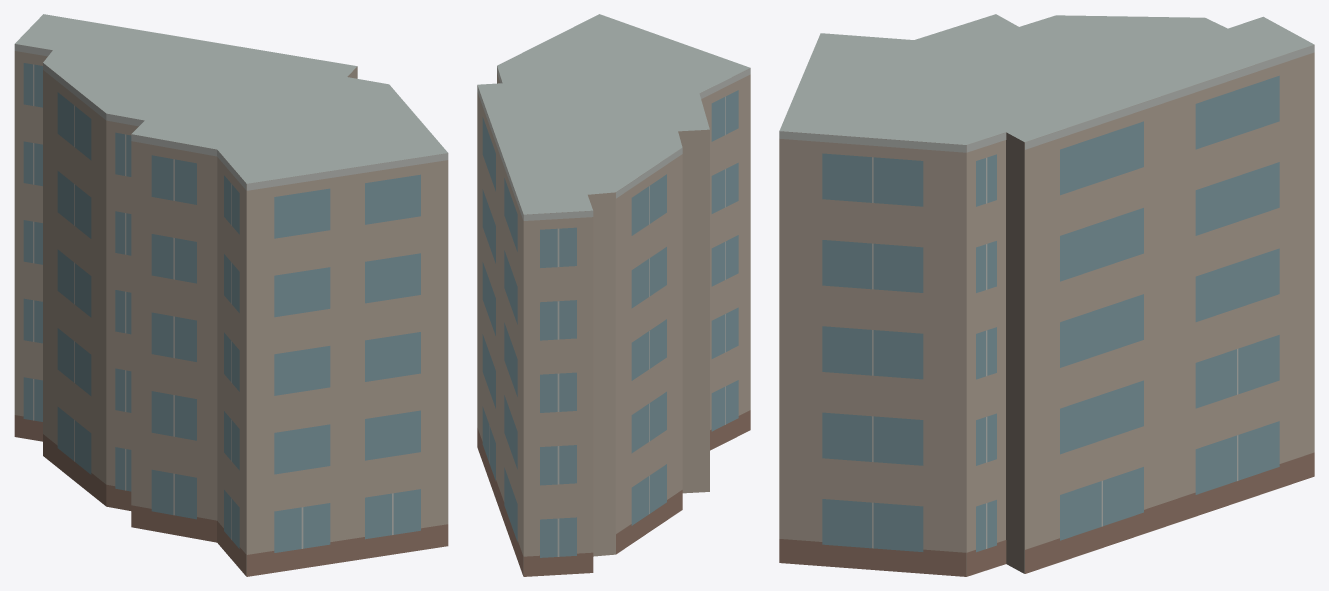
The model's file is survey-upis-32734864.glb.
3 views of the same model, side by side, from view 1: azimuth 30°, elevation 25°; view 2: azimuth 150°, elevation 25°; view 3: azimuth 270°, elevation 25° (orthographic). The views are drawn at different scales.
Parts seen in each view (by area): view 1: survey-upis-32734864.tmp; view 2: survey-upis-32734864.tmp; view 3: survey-upis-32734864.tmp.
Boxes of the visible parts, <box> form: survey-upis-32734864.tmp: <box>14,14,448,576</box>; survey-upis-32734864.tmp: <box>477,14,750,576</box>; survey-upis-32734864.tmp: <box>779,14,1314,576</box>.
Bounding box in the file's own units: 8.93 × 13.7 × 15.4.
